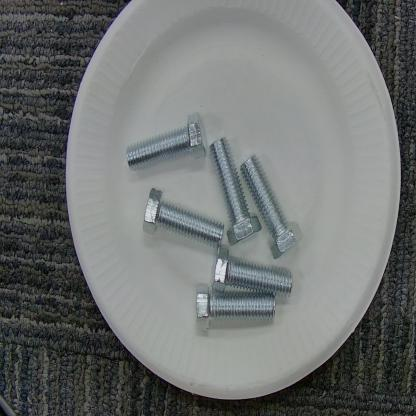FOD: (122, 107, 304, 338)
